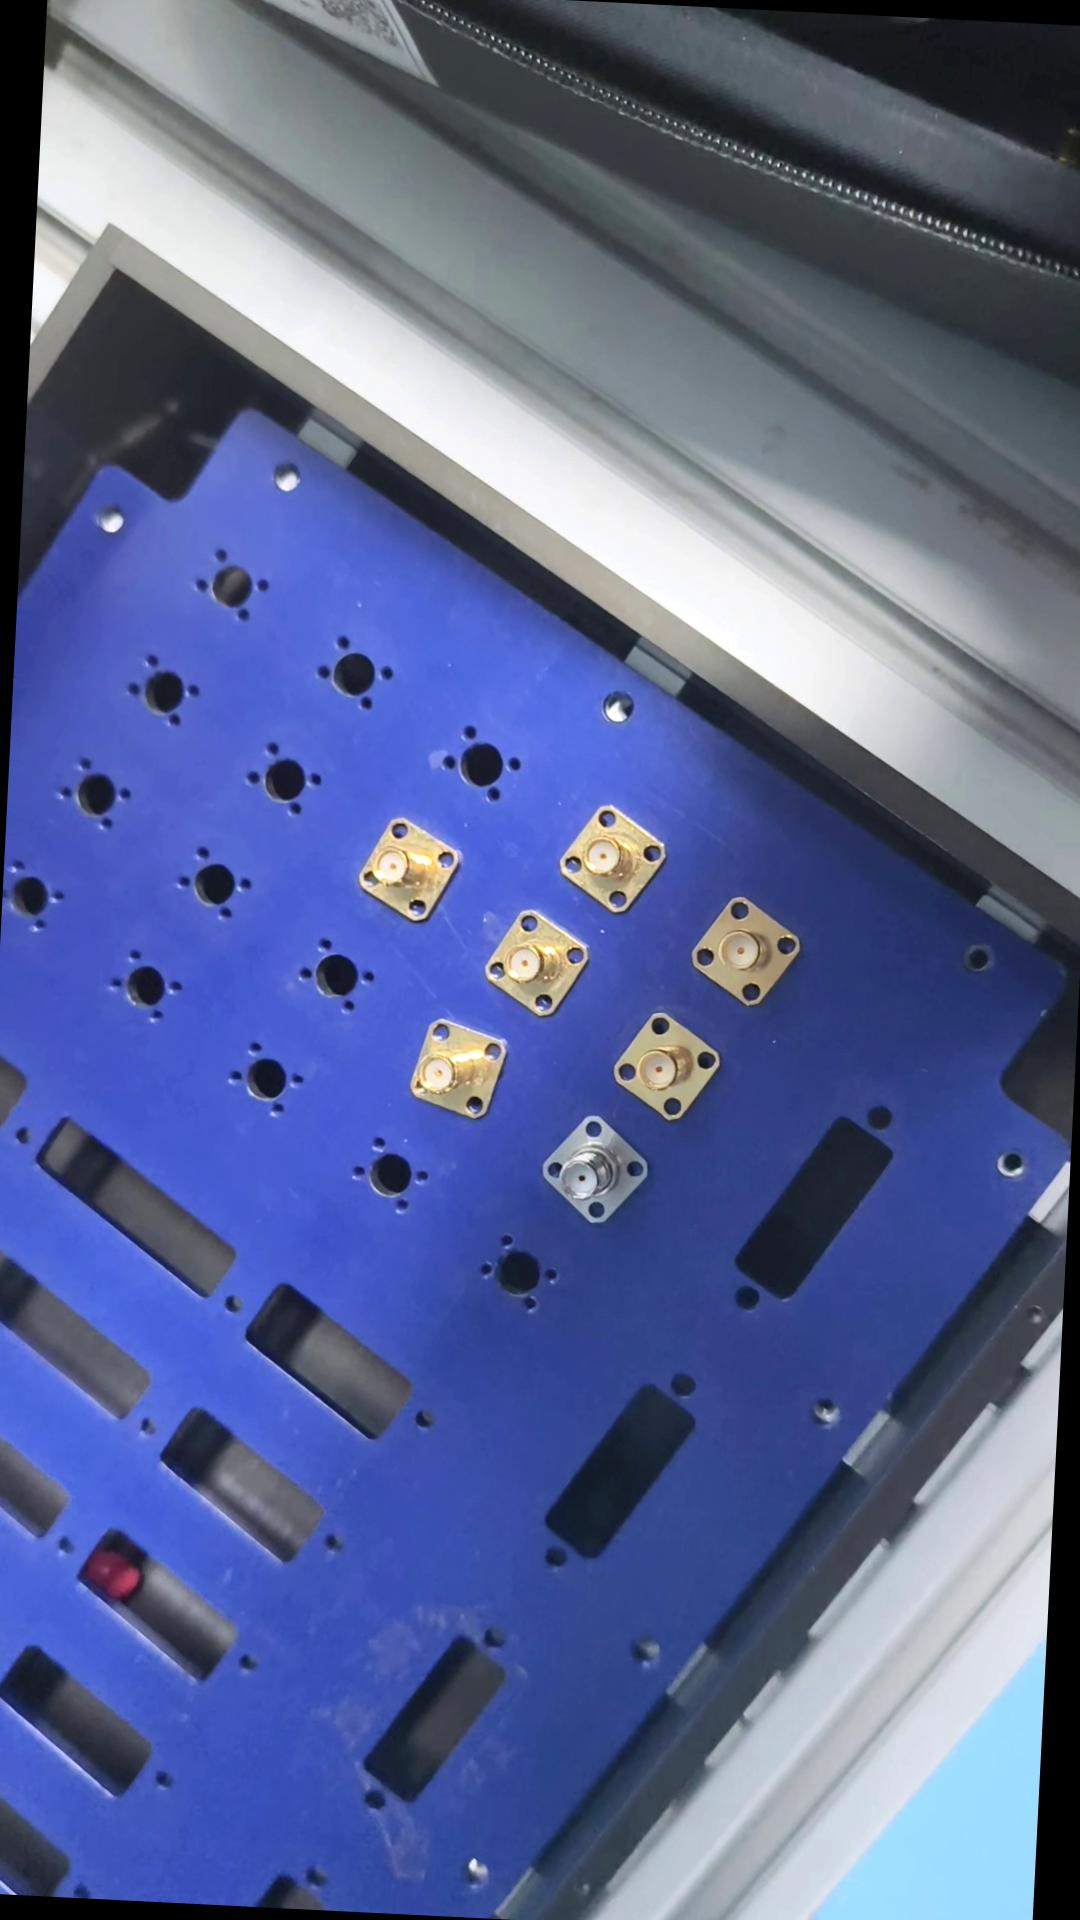SMA: (533, 1104, 651, 1232), (603, 1004, 724, 1121), (553, 793, 665, 913), (688, 893, 802, 1004), (388, 1021, 509, 1122), (480, 907, 589, 1018), (355, 808, 458, 916)
